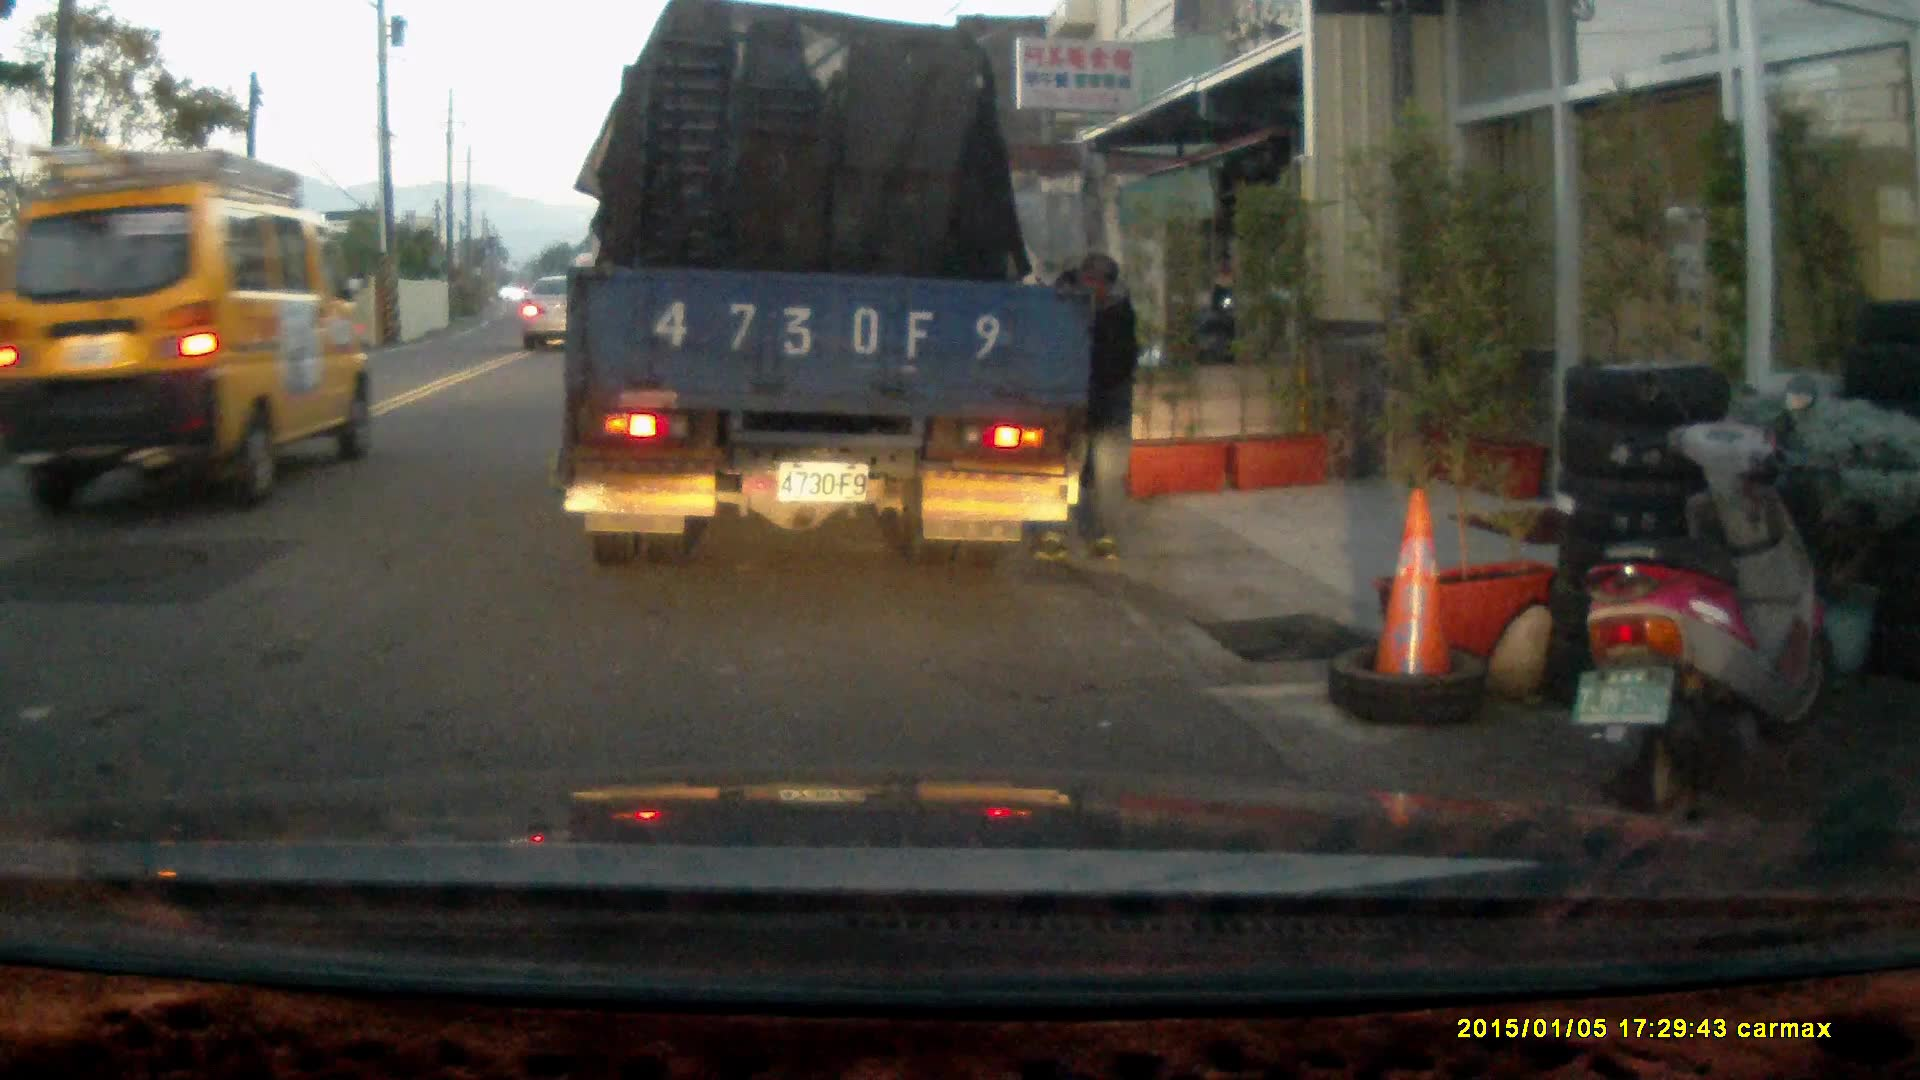pedestrian: (1020, 250, 1138, 563)
vehicle: (560, 25, 1079, 559), (1, 146, 378, 519), (524, 272, 591, 347)
